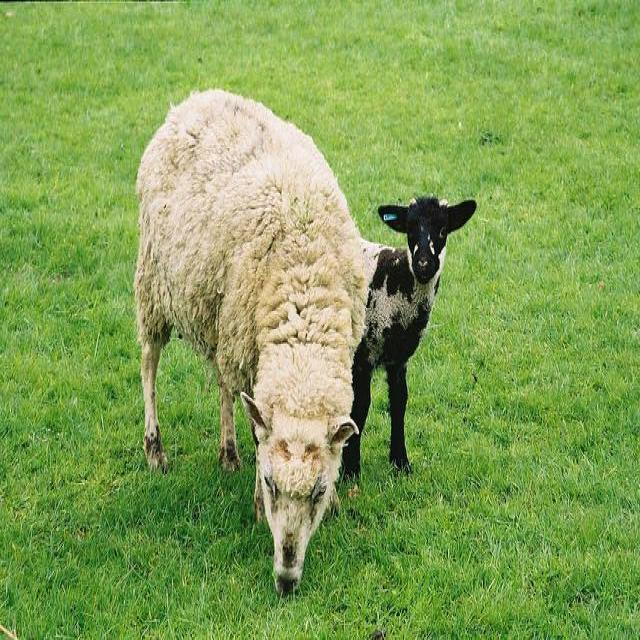Sheep: (135, 88, 369, 597), (345, 197, 476, 478)
